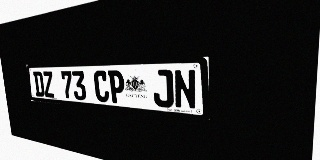3: (72, 71, 86, 101)
7: (60, 71, 74, 99)
C: (93, 70, 110, 103)
D: (33, 71, 45, 97)
J: (152, 69, 174, 108)
N: (173, 69, 197, 110)
P: (108, 70, 125, 104)
Z: (42, 71, 55, 98)
